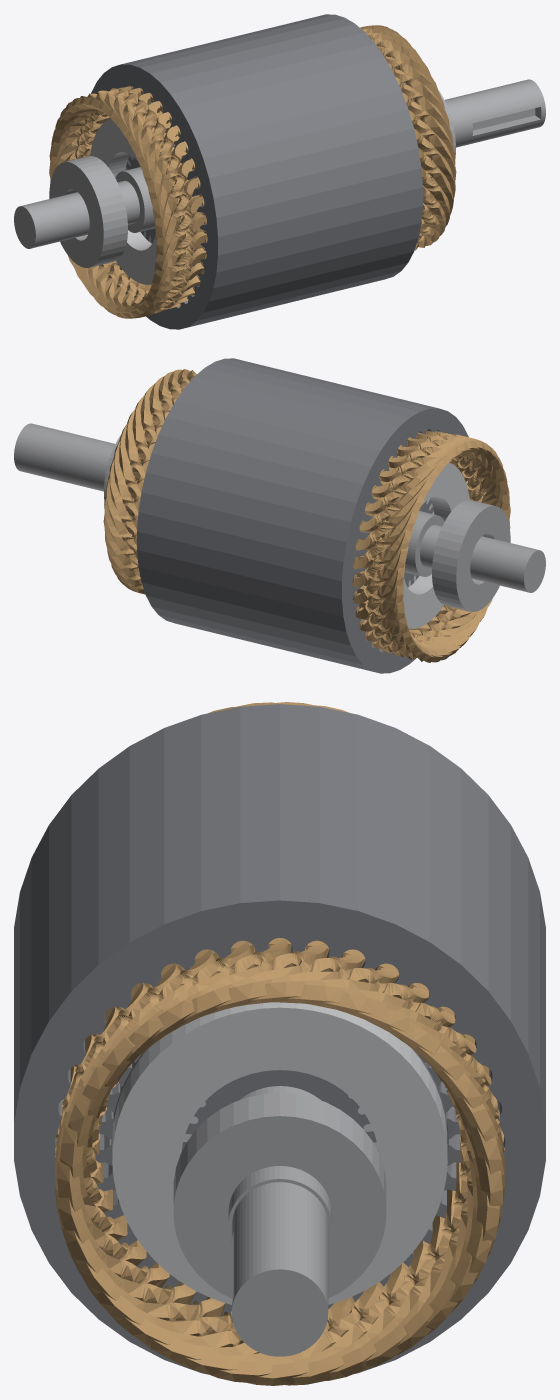
The model's file is internals.glb.
The picture shows the model from 3 angles, top to bottom: view 1: azimuth 30°, elevation 25°; view 2: azimuth 150°, elevation 25°; view 3: azimuth 270°, elevation 25°; orthographic projection. The views are drawn at different scales.
Parts seen in each view (by area): view 1: Stator_Core, Shaft, Bearing_NDE, EndRing_NDE, Coil_04, Coil_05, Coil_03, Coil_06, Coil_02, Coil_07, Coil_01_short, Coil_08 (+14 smaller); view 2: Stator_Core, Shaft, Bearing_NDE, EndRing_NDE, Coil_28, Coil_29, Coil_27, Coil_30, Coil_26, Coil_25, Coil_31, Coil_32 (+14 smaller); view 3: Stator_Core, EndRing_DE, Bearing_DE, Shaft, Rotor_Core, Coil_04, Coil_05, Coil_03, Coil_02, Coil_14, Coil_06, Coil_13 (+29 smaller).
Boxes of the visible parts, box(x1,y1,x2,y2) form: Stator_Core: box(91, 14, 422, 329); Shaft: box(14, 79, 545, 248); Bearing_NDE: box(49, 156, 127, 267); EndRing_NDE: box(90, 119, 156, 284); Coil_04: box(155, 92, 455, 275); Coil_05: box(156, 110, 456, 262); Coil_03: box(152, 77, 452, 263); Coil_06: box(154, 128, 455, 272); Coil_02: box(147, 63, 449, 249); Coil_07: box(151, 148, 453, 286); Coil_01_short: box(141, 52, 444, 233); Coil_08: box(146, 167, 450, 297); Stator_Core: box(137, 358, 469, 673); Shaft: box(14, 423, 545, 592); Bearing_NDE: box(432, 500, 510, 611); EndRing_NDE: box(403, 463, 469, 628); Coil_28: box(119, 399, 426, 568); Coil_29: box(125, 391, 434, 549); Coil_27: box(113, 410, 419, 586); Coil_30: box(132, 384, 443, 531); Coil_26: box(109, 424, 413, 603); Coil_25: box(106, 434, 408, 618); Coil_31: box(140, 383, 452, 514); Coil_32: box(149, 376, 462, 497); Stator_Core: box(14, 704, 545, 1374); EndRing_DE: box(112, 1002, 447, 1304); Bearing_DE: box(173, 1092, 386, 1299); Shaft: box(228, 1086, 331, 1356); Rotor_Core: box(113, 1049, 446, 1150); Coil_04: box(60, 983, 148, 1240); Coil_05: box(57, 1007, 146, 1266); Coil_03: box(68, 964, 180, 1213); Coil_02: box(82, 950, 215, 1183); Coil_14: box(247, 1034, 474, 1385); Coil_06: box(55, 1035, 169, 1287); Coil_13: box(208, 1065, 489, 1382).
Size of the model in its own units: 335 by 155 by 155.
